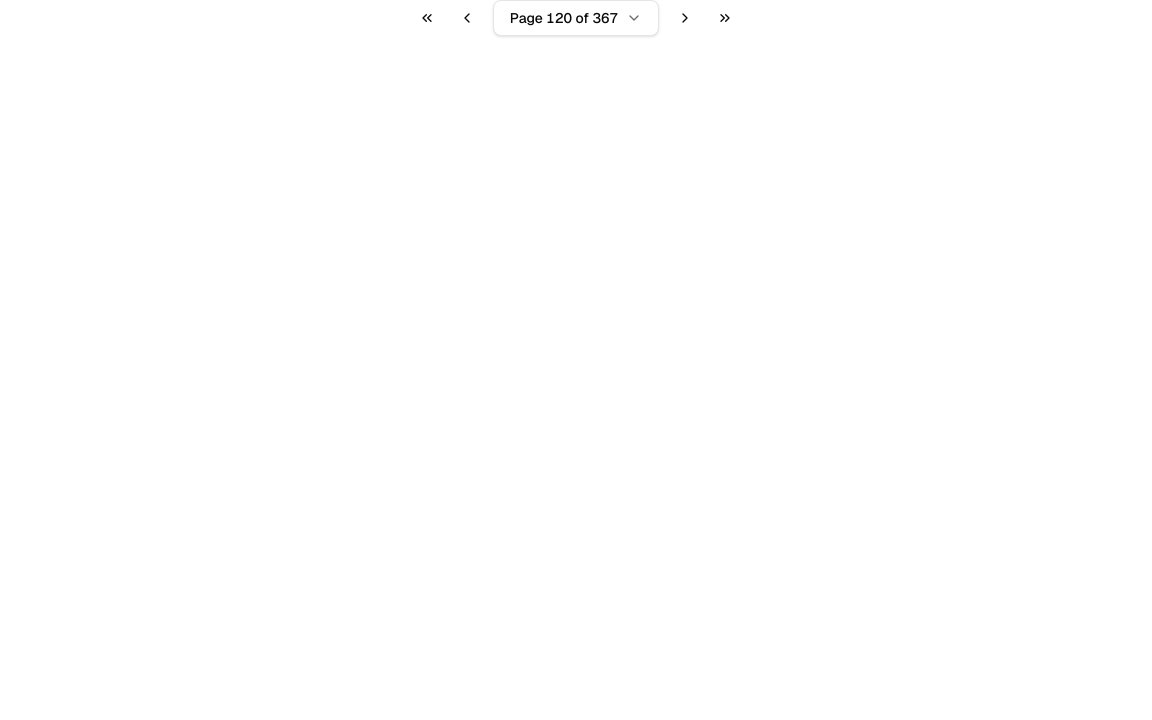
PaginationFooter › shows no pages for input without digits
This screenshot has width=1152, height=720.
Click the button "Page 120 of 367": (576, 18) [493,0,659,36]
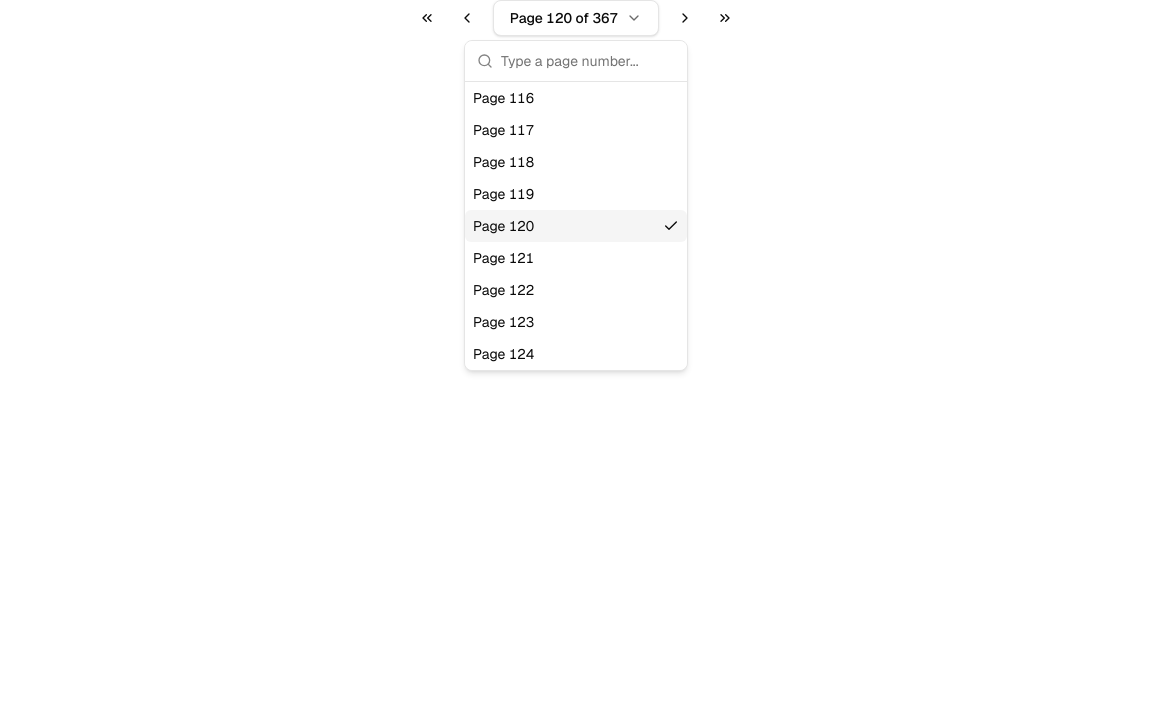
Type keys "abc{Enter}"
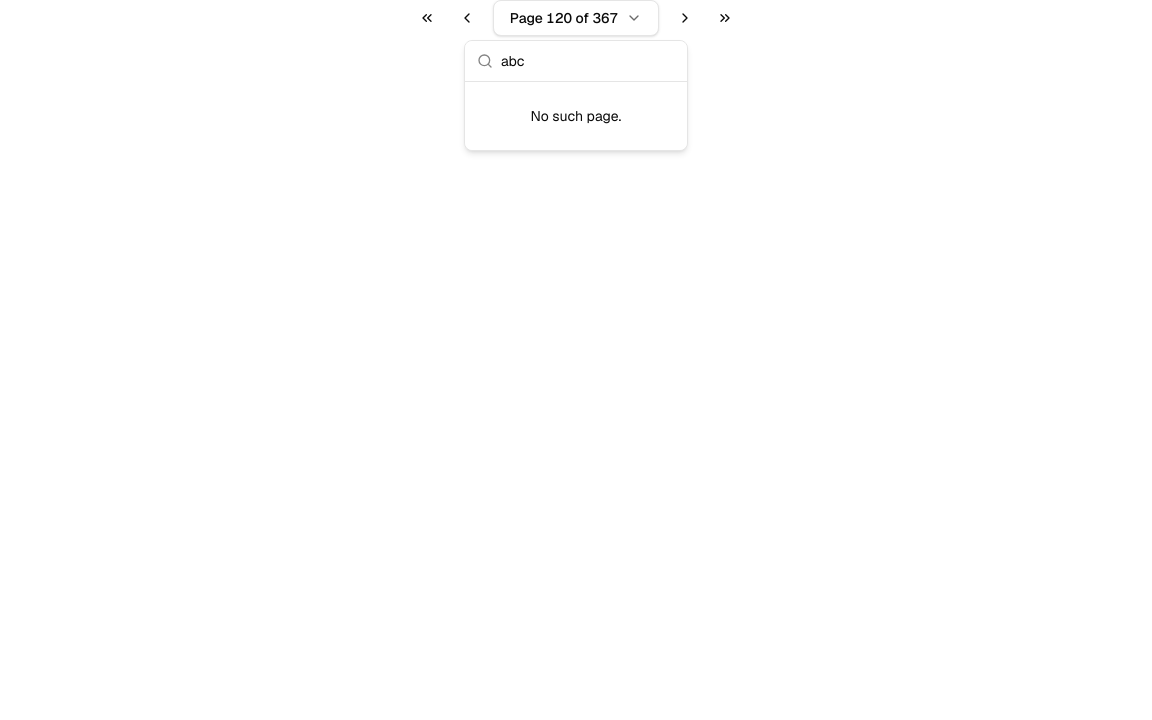
Result: no options are shown
Result: the text "No such page." is shown at [531,107,621,125]
